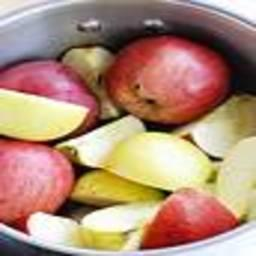apple: (108, 34, 231, 125), (1, 60, 100, 133), (139, 190, 244, 251), (1, 142, 73, 230)
